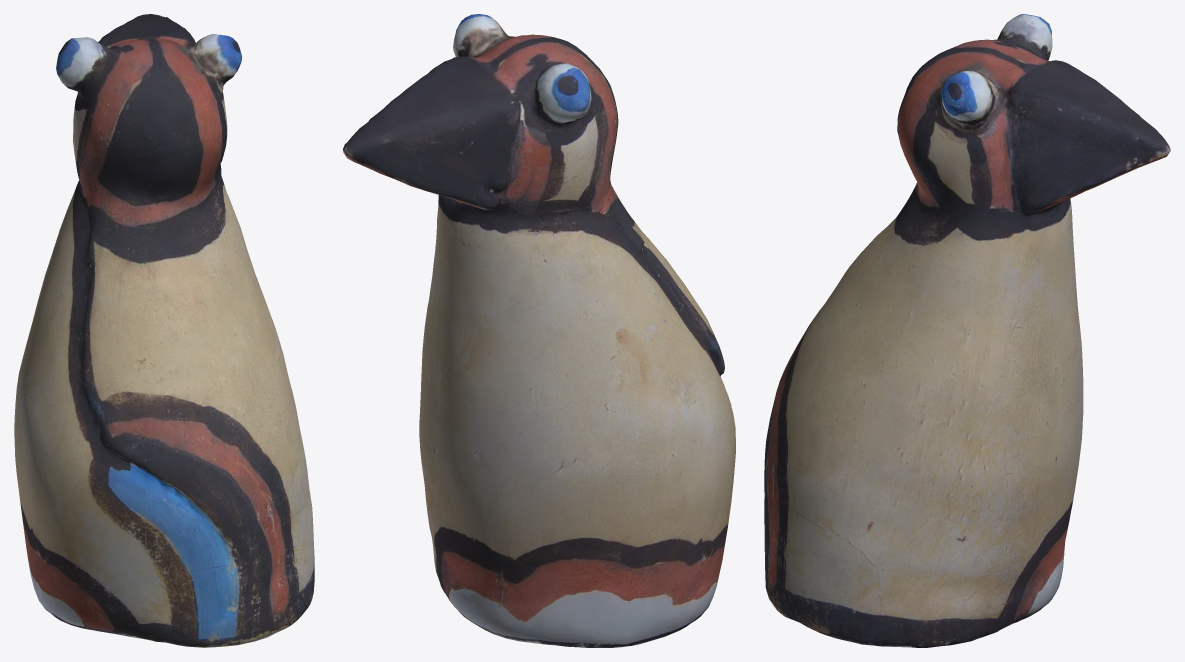
3 views of the same model, side by side, from view 1: azimuth 30°, elevation 25°; view 2: azimuth 150°, elevation 25°; view 3: azimuth 270°, elevation 25° (orthographic). The views are drawn at different scales.
Visible parts, largest first — view 1: 7-8-4k; view 2: 7-8-4k; view 3: 7-8-4k.
Part boxes in pixels (x1,y1,x2,y2): 7-8-4k: (14, 14, 314, 647); 7-8-4k: (343, 14, 735, 647); 7-8-4k: (764, 14, 1170, 647).
Bounding box in the file's own units: 0.3418 × 0.679 × 0.4498.
Materials: 1 (1 with a texture image).
